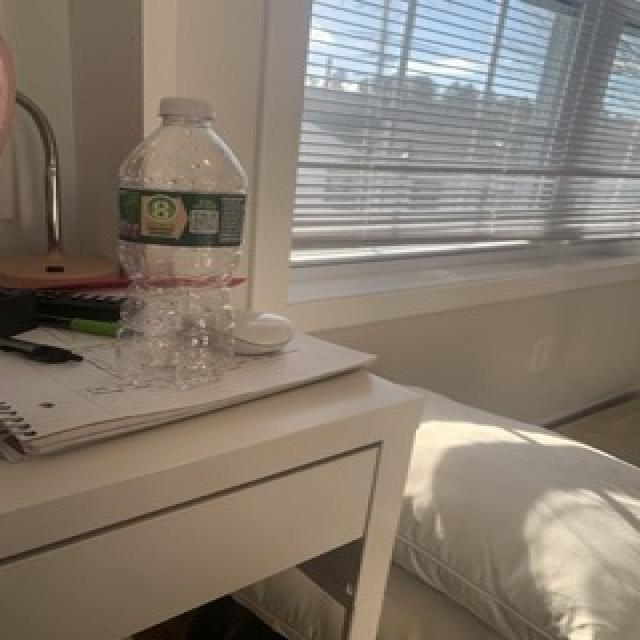water_bottle: (110, 96, 245, 390)
